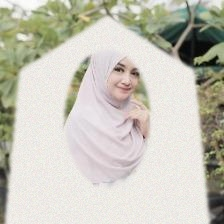Mukena: (0, 39, 214, 224)
